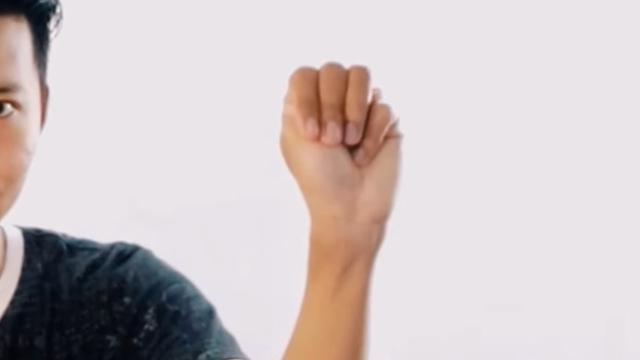M: (272, 48, 412, 248)
